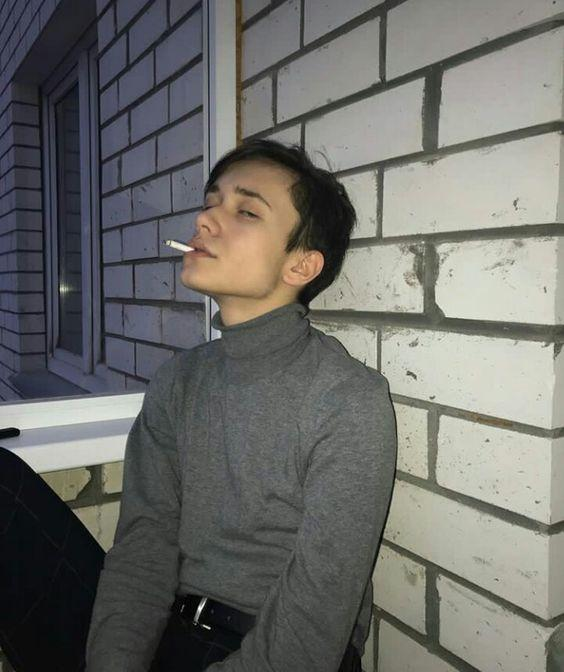cigarette: (162, 239, 197, 253)
